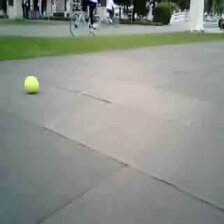tennis: (24, 76, 40, 94)
